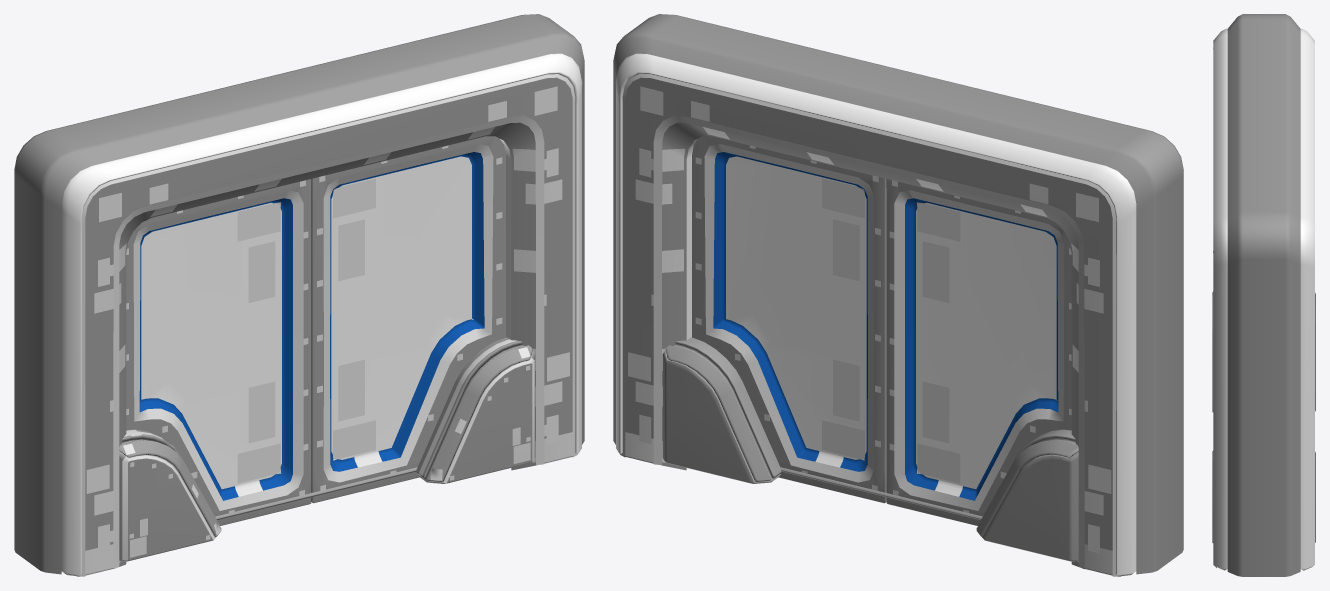
Rendered from Door.fbx.
3 renders of one model, left to right at view 1: azimuth 30°, elevation 25°; view 2: azimuth 150°, elevation 25°; view 3: azimuth 270°, elevation 25°, orthographic. The views are drawn at different scales.
Visible parts, largest first — view 1: Cube.051, Cube.076, Cube.075, Cube.056, Cube.063, Cube.061, Cube.073, StylizedHardSurface_Panels_002.014, StylizedHardSurface_Panels_002.027, StylizedHardSurface_Decals_024.002_projected, StylizedHardSurface_Decals_042.002_projected, StylizedHardSurface_Decals_030.002_projected (+5 smaller); view 2: Cube.051, Cube.076, Cube.075, Cube.063, Cube.056, Cube.061, Cube.073, StylizedHardSurface_Panels_002.014, StylizedHardSurface_Decals_024.002_projected, StylizedHardSurface_Decals_042.002_projected, StylizedHardSurface_Decals_030.002_projected, Cube.059 (+3 smaller); view 3: Cube.051, Cube.056, StylizedHardSurface_Panels_002.027, Cube.063.
Part boxes in pixels (x1,y1,x2,y2): Cube.051: (14,14,584,575); Cube.076: (311,136,505,503); Cube.075: (126,179,311,525); Cube.056: (61,53,582,575); Cube.063: (119,337,535,561); Cube.061: (126,180,308,513); Cube.073: (317,144,502,490); StylizedHardSurface_Panels_002.014: (76,74,577,576); StylizedHardSurface_Panels_002.027: (122,357,534,560); StylizedHardSurface_Decals_024.002_projected: (94,179,562,515); StylizedHardSurface_Decals_042.002_projected: (98,148,558,553); StylizedHardSurface_Decals_030.002_projected: (85,432,572,574); Cube.051: (613,14,1183,575); Cube.076: (692,136,886,503); Cube.075: (886,179,1071,525); Cube.063: (662,337,1078,561); Cube.056: (615,53,1136,575); Cube.061: (889,180,1071,513); Cube.073: (695,144,880,490); StylizedHardSurface_Panels_002.014: (620,74,1121,576); StylizedHardSurface_Decals_024.002_projected: (635,179,1103,515); StylizedHardSurface_Decals_042.002_projected: (639,148,1099,553); StylizedHardSurface_Decals_030.002_projected: (625,432,1112,574); Cube.059: (660,139,697,465); Cube.051: (1227,14,1300,576); Cube.056: (1213,28,1314,570); StylizedHardSurface_Panels_002.027: (1212,291,1213,542); Cube.063: (1315,292,1315,542).
Size of the model in its own units: 388 by 287 by 75.93.
